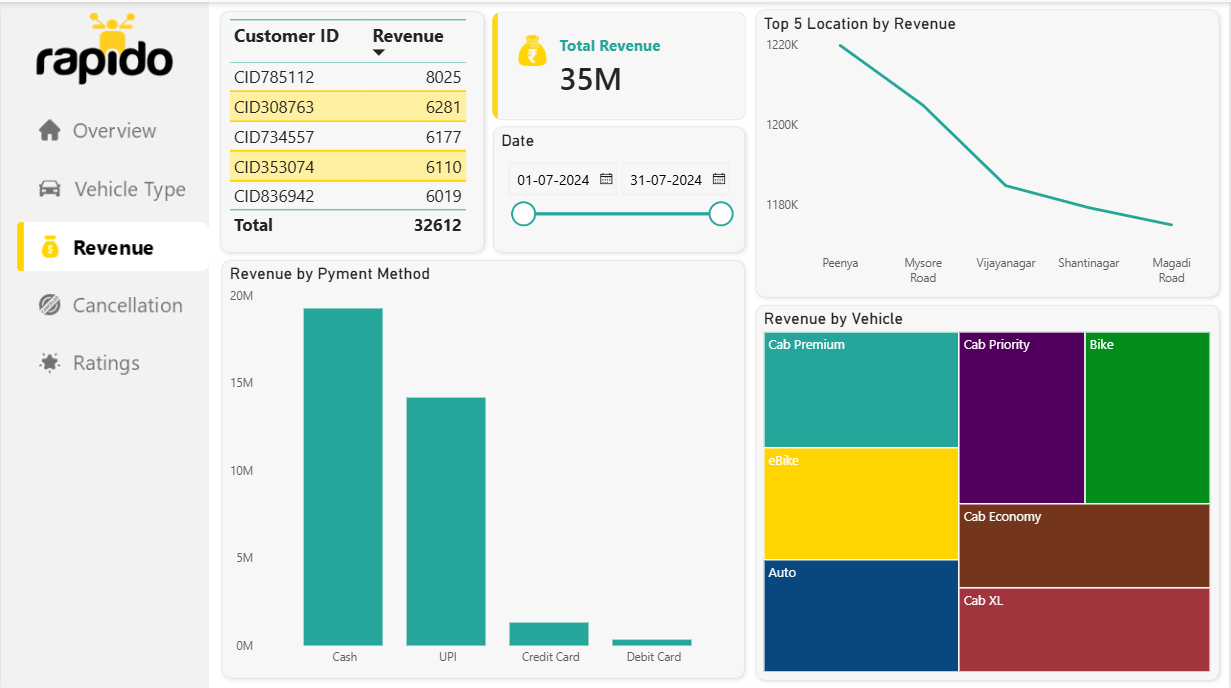

This screenshot's page, from the dashboard's own definition file:
{"tool":"powerbi","page":{"name":"Revenue","canvas":[1280,720],"ordinal":2},"visuals":[{"type":"actionButton","box":[25,108.3,175,51.7],"z":0},{"type":"actionButton","box":[26.7,168.3,175,51.7],"z":1000},{"type":"actionButton","box":[26.7,290,175,51.7],"z":2000},{"type":"actionButton","box":[25,351.7,175,51.7],"z":3000},{"type":"columnChart","title":"Revenue by Pyment Method","fields":{"Y":["Sum(Bookings.Booking_Value)"],"Category":["Bookings.Payment_Method"]},"box":[229.8,268.8,545.5,436.1],"z":4000},{"type":"treemap","title":"Revenue by Vehicle","fields":{"Group":["Bookings.Vehicle_Type"],"Values":["Sum(Bookings.Booking_Value)"]},"box":[786.9,315.4,483.1,391.5],"z":5000},{"type":"lineChart","title":"Top 5 Location by Revenue","fields":{"Category":["Bookings.Drop_Location"],"Y":["Sum(Bookings.Booking_Value)"]},"box":[786.7,8.3,483.3,300],"z":6000},{"type":"tableEx","fields":{"Values":["Bookings.Customer_ID","Sum(Bookings.Booking_Value)"]},"box":[227.8,8.9,275.6,252.2],"z":7000},{"type":"cardVisual","fields":{"Data":["Sum(Bookings.Booking_Value)"]},"box":[505.7,4.3,275.7,123.6],"z":8000},{"type":"slicer","title":"Date","fields":{"Values":["Bookings.Date"]},"box":[512.7,129.7,262.6,131.3],"z":9000}]}

Visuals, with their boxes on the page's 1280x720 design canvas (x1, y1, x2, y2). These are canvas units, not pixel positions in the 1231x688 screenshot, which may show the page scaled, cropped or inside an application window:
actionButton: box(25, 108, 200, 160)
actionButton: box(27, 168, 202, 220)
actionButton: box(27, 290, 202, 342)
actionButton: box(25, 352, 200, 403)
"Revenue by Pyment Method" columnChart: box(230, 269, 775, 705)
"Revenue by Vehicle" treemap: box(787, 315, 1270, 707)
"Top 5 Location by Revenue" lineChart: box(787, 8, 1270, 308)
tableEx - Bookings.Customer_ID x Sum(Bookings.Booking_Value): box(228, 9, 503, 261)
cardVisual - Sum(Bookings.Booking_Value): box(506, 4, 781, 128)
"Date" slicer: box(513, 130, 775, 261)
